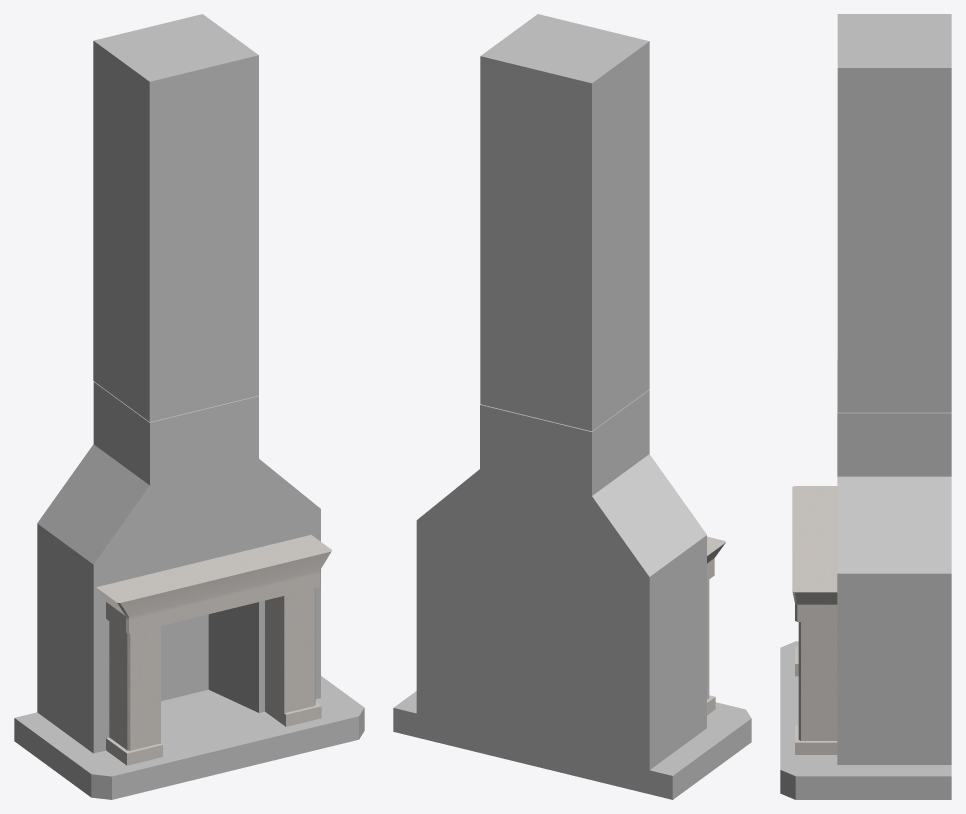
File: Fireplace_Grouped_03.FBX
The picture shows the model from 3 angles, left to right: view 1: azimuth 30°, elevation 25°; view 2: azimuth 150°, elevation 25°; view 3: azimuth 270°, elevation 25°; orthographic projection. The views are drawn at different scales.
Visible parts, largest first — view 1: Fireplace_Box, Fireplace_Chimney_Extension; view 2: Fireplace_Box, Fireplace_Chimney_Extension; view 3: Fireplace_Box, Fireplace_Chimney_Extension.
Boxes of the visible parts, x1,y1,x2,y2 form: Fireplace_Box: (14, 381, 364, 799); Fireplace_Chimney_Extension: (93, 14, 258, 421); Fireplace_Box: (393, 390, 751, 799); Fireplace_Chimney_Extension: (480, 14, 649, 431); Fireplace_Box: (780, 359, 951, 799); Fireplace_Chimney_Extension: (837, 14, 951, 412).
Bounding box in the file's own units: 420 × 1001 × 225.
